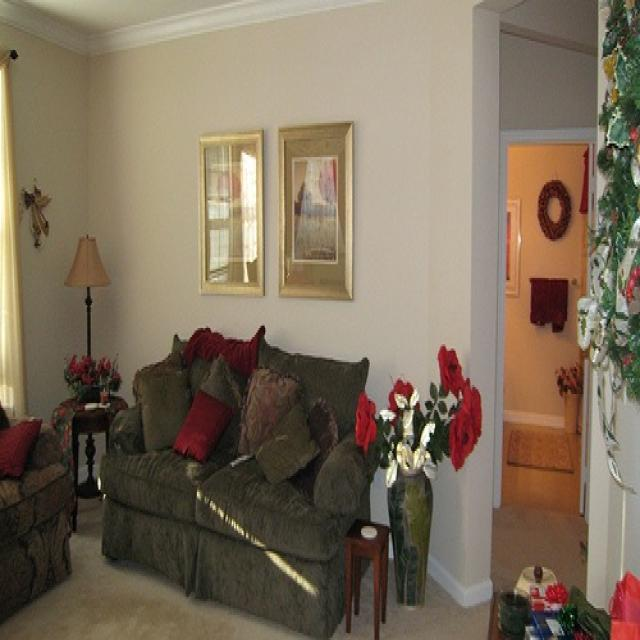sofa: (106, 328, 372, 619), (0, 368, 79, 635)
